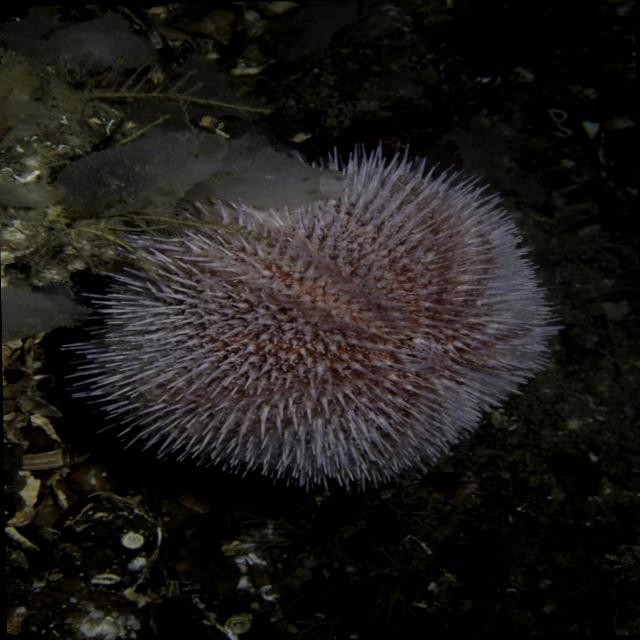Deniz Kestanesi: (54, 136, 566, 498)
